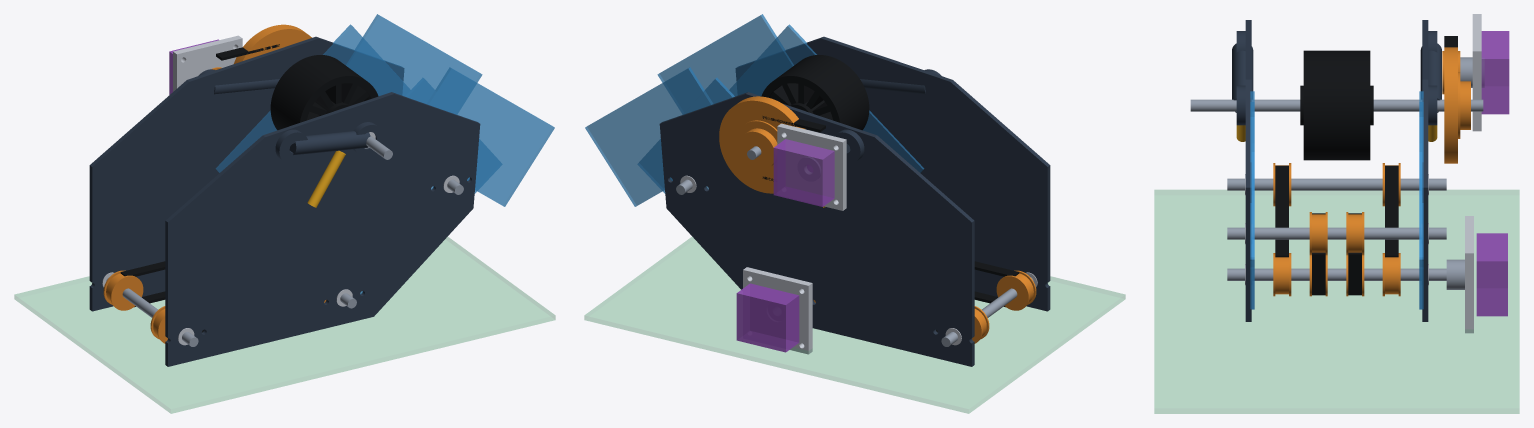
File: continuous_servo_feeder_cots.glb
3 renders of one model, left to right at view 1: azimuth 30°, elevation 25°; view 2: azimuth 150°, elevation 25°; view 3: azimuth 270°, elevation 25°, orthographic. The views are drawn at different scales.
Visible parts, largest first — view 1: custom_PETG_side_frame_-1, 00_xy_chassis_reference, custom_PETG_side_frame_+1, custom_PETG_launcher_inlet_wall_-1, custom_PETG_launcher_inlet_wall_+1, custom_72mm_compliant_pinch_roller, custom_PETG_incline_guide_wall_+1, custom_PETG_pinch_swing_arm_-1, pinch_drive_1802-0043-0001_servo_frame, custom_PETG_incline_guide_wall_-1, pinch_3415-0014-0048_48T_with_1309_hub, horizontal_return_3417-4008-0016_36 (+3 smaller); view 2: custom_PETG_side_frame_+1, 00_xy_chassis_reference, custom_PETG_side_frame_-1, custom_PETG_launcher_inlet_wall_+1, custom_PETG_launcher_inlet_wall_-1, custom_72mm_compliant_pinch_roller, pinch_3415-0014-0048_48T_with_1309_hub, conveyor_drive_2000-0025-0003_servo, pinch_drive_1802-0043-0001_servo_frame, pinch_drive_2000-0025-0003_servo, custom_PETG_incline_guide_wall_-1, conveyor_drive_1802-0043-0001_servo_frame (+5 smaller); view 3: 00_xy_chassis_reference, custom_72mm_compliant_pinch_roller, conveyor_drive_2000-0025-0003_servo, pinch_drive_2000-0025-0003_servo, pinch_3415-0014-0048_48T_with_1309_hub, horizontal_return_2106-4008-1440_rex_shaft, incline_return_2106-4008-1440_rex_shaft, pinch_2106-4008-1920_rex_shaft, custom_PETG_side_frame_-1, custom_PETG_side_frame_+1, junction_drive_2106-4008-1440_rex_shaft, custom_PETG_pinch_swing_arm_-1 (+17 smaller).
Part boxes in pixels (bbox=[...]): custom_PETG_side_frame_-1: bbox=[165, 92, 480, 366]; 00_xy_chassis_reference: bbox=[14, 237, 555, 413]; custom_PETG_side_frame_+1: bbox=[89, 36, 404, 311]; custom_PETG_launcher_inlet_wall_-1: bbox=[427, 67, 554, 206]; custom_PETG_launcher_inlet_wall_+1: bbox=[346, 14, 482, 113]; custom_72mm_compliant_pinch_roller: bbox=[270, 55, 378, 130]; custom_PETG_incline_guide_wall_+1: bbox=[216, 24, 410, 172]; custom_PETG_pinch_swing_arm_-1: bbox=[275, 122, 383, 163]; pinch_drive_1802-0043-0001_servo_frame: bbox=[173, 35, 242, 91]; custom_PETG_incline_guide_wall_-1: bbox=[360, 77, 502, 294]; pinch_3415-0014-0048_48T_with_1309_hub: bbox=[234, 24, 311, 63]; horizontal_return_3417-4008-0016_36: bbox=[103, 270, 143, 310]; custom_PETG_side_frame_+1: bbox=[659, 92, 974, 366]; 00_xy_chassis_reference: bbox=[584, 237, 1125, 413]; custom_PETG_side_frame_-1: bbox=[735, 36, 1050, 311]; custom_PETG_launcher_inlet_wall_+1: bbox=[585, 67, 712, 206]; custom_PETG_launcher_inlet_wall_-1: bbox=[657, 14, 793, 113]; custom_72mm_compliant_pinch_roller: bbox=[761, 55, 869, 130]; pinch_3415-0014-0048_48T_with_1309_hub: bbox=[719, 96, 805, 193]; conveyor_drive_2000-0025-0003_servo: bbox=[736, 283, 799, 352]; pinch_drive_1802-0043-0001_servo_frame: bbox=[777, 123, 846, 210]; pinch_drive_2000-0025-0003_servo: bbox=[773, 139, 834, 206]; custom_PETG_incline_guide_wall_-1: bbox=[729, 24, 923, 172]; conveyor_drive_1802-0043-0001_servo_frame: bbox=[743, 267, 812, 354]; 00_xy_chassis_reference: bbox=[1154, 190, 1519, 413]; custom_72mm_compliant_pinch_roller: bbox=[1300, 50, 1373, 160]; conveyor_drive_2000-0025-0003_servo: bbox=[1476, 233, 1507, 316]; pinch_drive_2000-0025-0003_servo: bbox=[1481, 31, 1509, 114]; pinch_3415-0014-0048_48T_with_1309_hub: bbox=[1444, 47, 1470, 163]; horizontal_return_2106-4008-1440_rex_shaft: bbox=[1227, 178, 1446, 190]; incline_return_2106-4008-1440_rex_shaft: bbox=[1227, 227, 1446, 239]; pinch_2106-4008-1920_rex_shaft: bbox=[1190, 99, 1483, 111]; custom_PETG_side_frame_-1: bbox=[1245, 20, 1251, 321]; custom_PETG_side_frame_+1: bbox=[1422, 20, 1428, 321]; junction_drive_2106-4008-1440_rex_shaft: bbox=[1227, 268, 1446, 280]; custom_PETG_pinch_swing_arm_-1: bbox=[1232, 31, 1253, 125].
Bounding box in the file's own units: 376 × 200 × 240.
